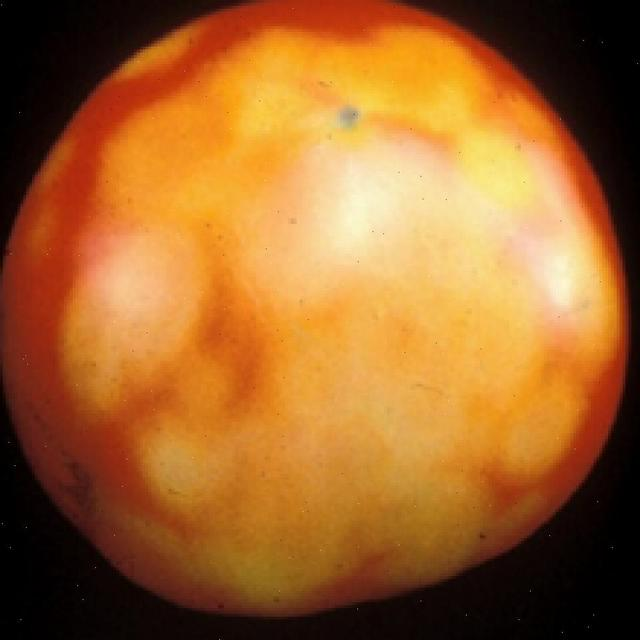Spotted wilt Virus Fruit: (0, 0, 421, 413)
